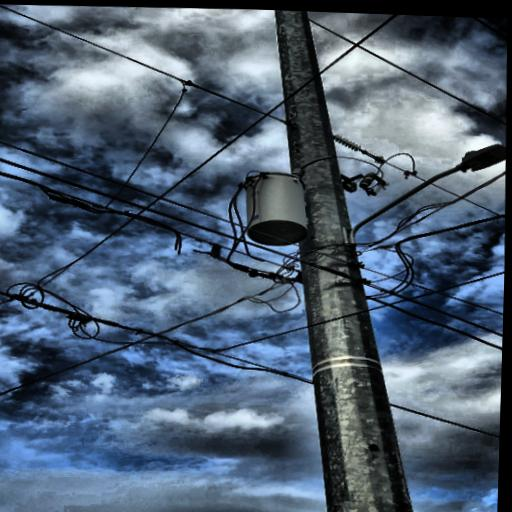pole: (235, 9, 493, 512)
street light: (334, 136, 507, 246)
transformer: (237, 166, 312, 252)
